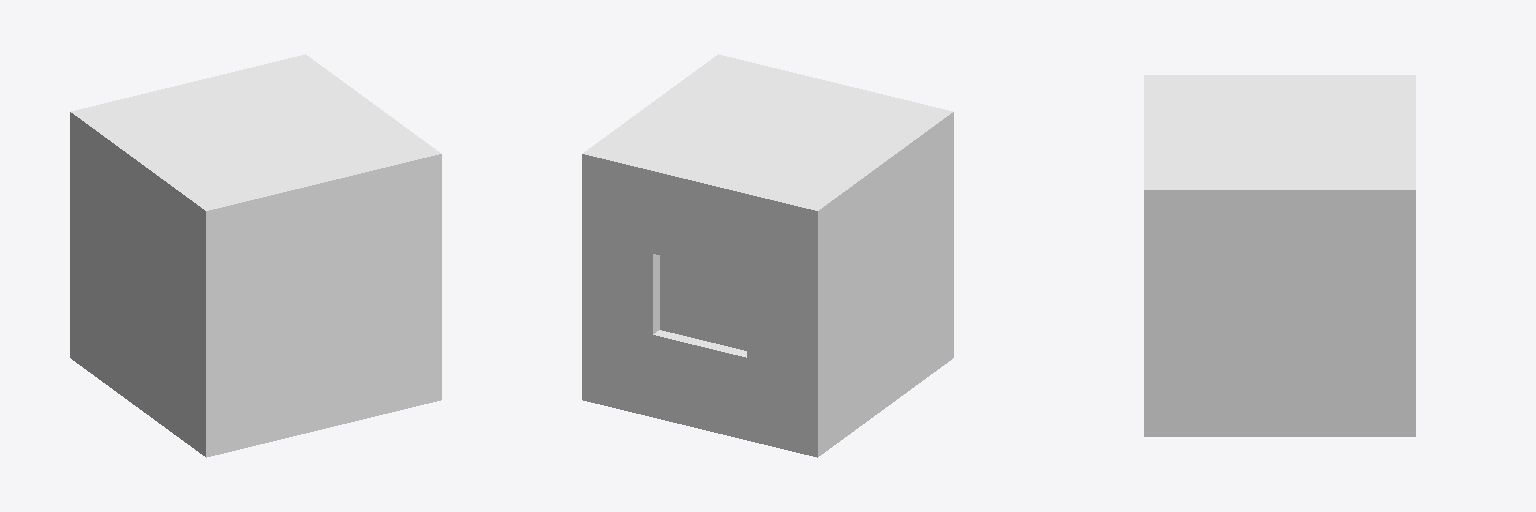
The model's file is wall-fortified-window.obj.
The picture shows the model from 3 angles: view 1: azimuth 30°, elevation 25°; view 2: azimuth 150°, elevation 25°; view 3: azimuth 270°, elevation 25°; orthographic projection.
Parts seen in each view (by area): view 1: wall-fortified-window; view 2: wall-fortified-window; view 3: wall-fortified-window.
Boxes of the visible parts, <box> form: wall-fortified-window: <box>70,54,441,457</box>; wall-fortified-window: <box>582,54,953,457</box>; wall-fortified-window: <box>1144,75,1415,436</box>.
Size of the model in its own units: 1 by 1 by 1.